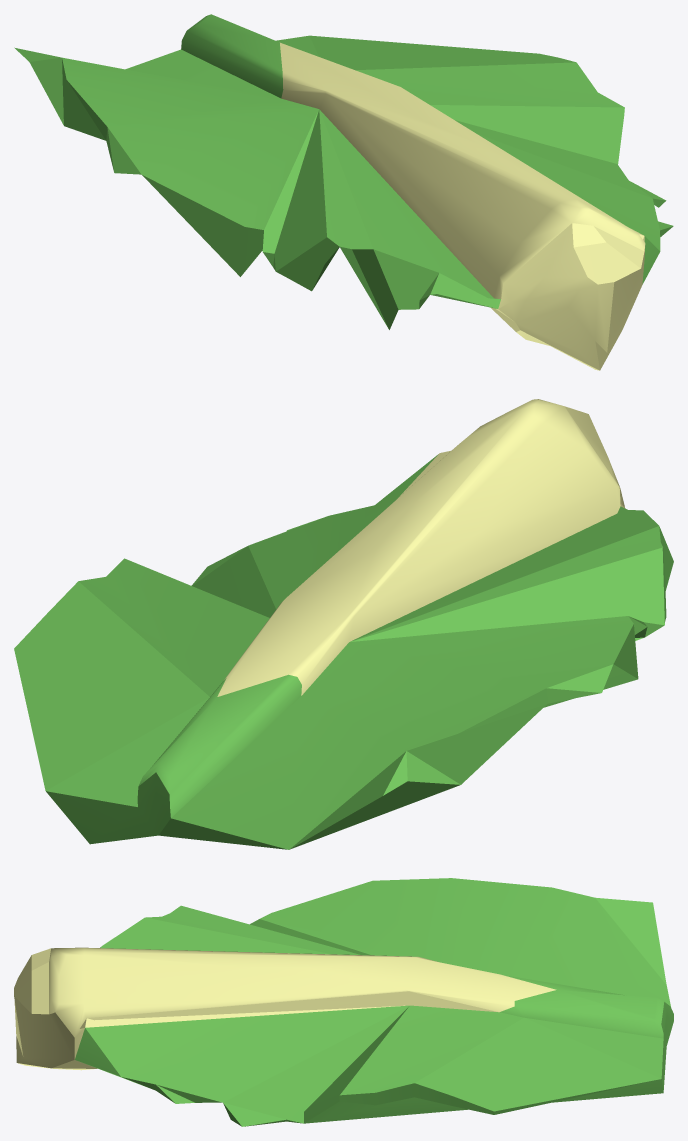
File: Lettuce Texture Ready.fbx
3 renders of one model, top to bottom at view 1: azimuth 30°, elevation 25°; view 2: azimuth 150°, elevation 25°; view 3: azimuth 270°, elevation 25°, orthographic. The views are drawn at different scales.
Parts seen in each view (by area): view 1: Plane004; view 2: Plane004; view 3: Plane004.
Boxes of the visible parts, <box> form: Plane004: <box>14,14,673,370</box>; Plane004: <box>14,399,673,849</box>; Plane004: <box>14,878,673,1126</box>.
Bounding box in the file's own units: 18.36 × 5.42 × 26.29.
